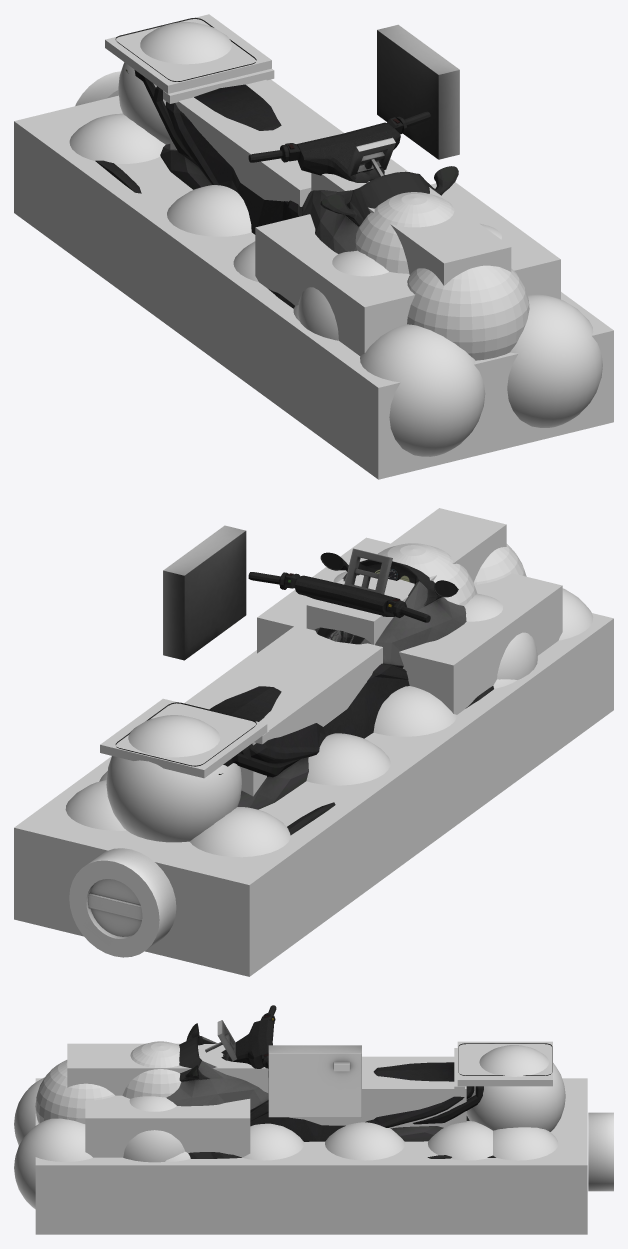
The model's file is boat.glb.
3 renders of one model, top to bottom at view 1: azimuth 30°, elevation 25°; view 2: azimuth 150°, elevation 25°; view 3: azimuth 270°, elevation 25°, orthographic. The views are drawn at different scales.
Parts seen in each view (by area): view 1: Cube.007, Mesh_0.001, Sphere.012, Cube.001, Sphere.015, Sphere.025, Cube.008, door_1, Cube.010, Sphere.002, Cube.003, Sphere.016 (+8 smaller); view 2: Cube.007, Mesh_0.001, Sphere.002, Cube.008, Cube.001, wheel_fr, door_1, Cube.010, Cube.003, Sphere.006, Sphere.024, Sphere.017 (+7 smaller); view 3: Cube.007, Mesh_0.001, Cube.002, door_1, Sphere.002, Cube.008, Cube.010, Sphere.015, Cube.003, Sphere.025, Sphere.016, Sphere.023 (+7 smaller).
Boxes of the visible parts, x1,y1,x2,y2 form: Cube.007: (14, 79, 613, 479); Mesh_0.001: (95, 17, 458, 308); Sphere.012: (360, 324, 485, 456); Cube.001: (255, 214, 414, 356); Sphere.015: (507, 294, 602, 427); Sphere.025: (407, 265, 529, 360); Cube.008: (170, 80, 340, 206); door_1: (377, 24, 459, 159); Cube.010: (311, 158, 511, 285); Sphere.002: (118, 22, 231, 144); Cube.003: (105, 14, 271, 93); Sphere.016: (355, 192, 454, 274); Cube.007: (14, 613, 613, 976); Mesh_0.001: (115, 552, 493, 835); Sphere.002: (106, 715, 241, 842); Cube.008: (188, 625, 382, 796); Cube.001: (399, 573, 562, 714); wheel_fr: (69, 848, 176, 957); door_1: (163, 525, 246, 660); Cube.010: (306, 508, 506, 644); Cube.003: (100, 698, 267, 778); Sphere.006: (189, 807, 290, 857); Sphere.024: (306, 733, 390, 785); Sphere.017: (373, 686, 456, 736); Cube.007: (35, 1078, 587, 1234); Mesh_0.001: (166, 1005, 552, 1158); Cube.002: (85, 1095, 250, 1157); door_1: (268, 1045, 361, 1117); Sphere.002: (466, 1045, 565, 1131); Cube.008: (289, 1056, 466, 1128); Cube.010: (67, 1043, 268, 1095); Sphere.015: (14, 1118, 92, 1209); Cube.003: (457, 1041, 552, 1086); Sphere.025: (35, 1060, 114, 1123); Sphere.016: (122, 1041, 181, 1098); Sphere.023: (325, 1122, 404, 1160).
Size of the model in its own units: 1.25 by 1.27 by 3.57.
3 materials, 3 textured.
